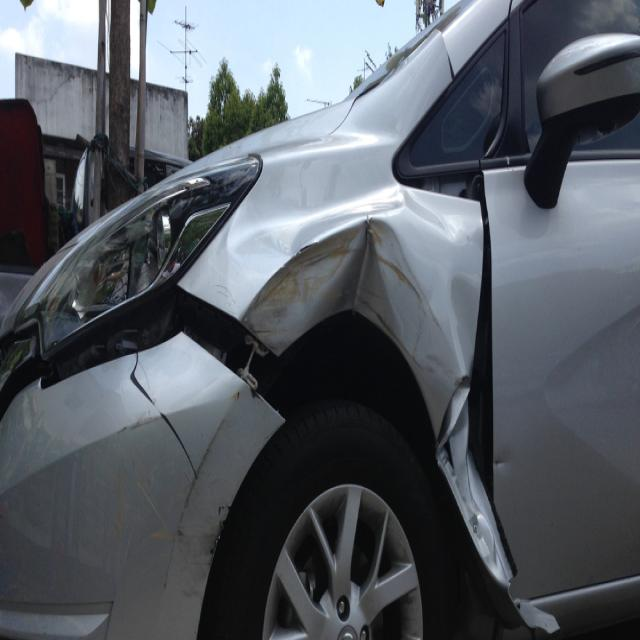dent: (229, 147, 404, 260), (438, 388, 510, 586), (312, 230, 403, 337), (365, 219, 428, 358), (450, 280, 479, 377)
scratch: (126, 350, 227, 610)
